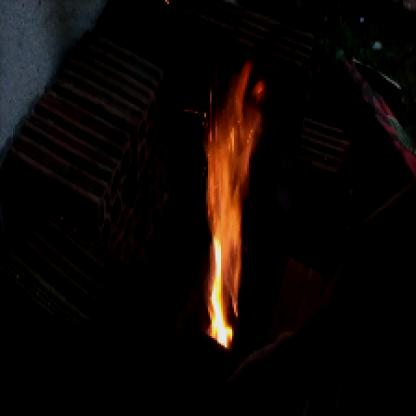Fire: (182, 58, 269, 349)
